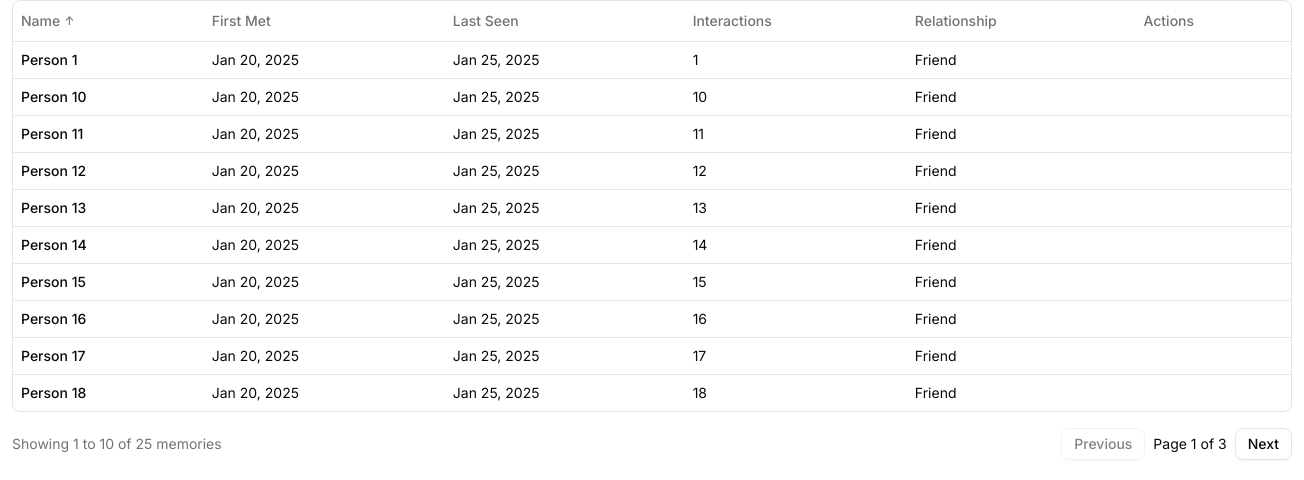
Memory Table › pagination › should disable next button on last page
Navigate to last page
Click the button "Next" at x=1263, y=444, box [1235, 428, 1292, 460]
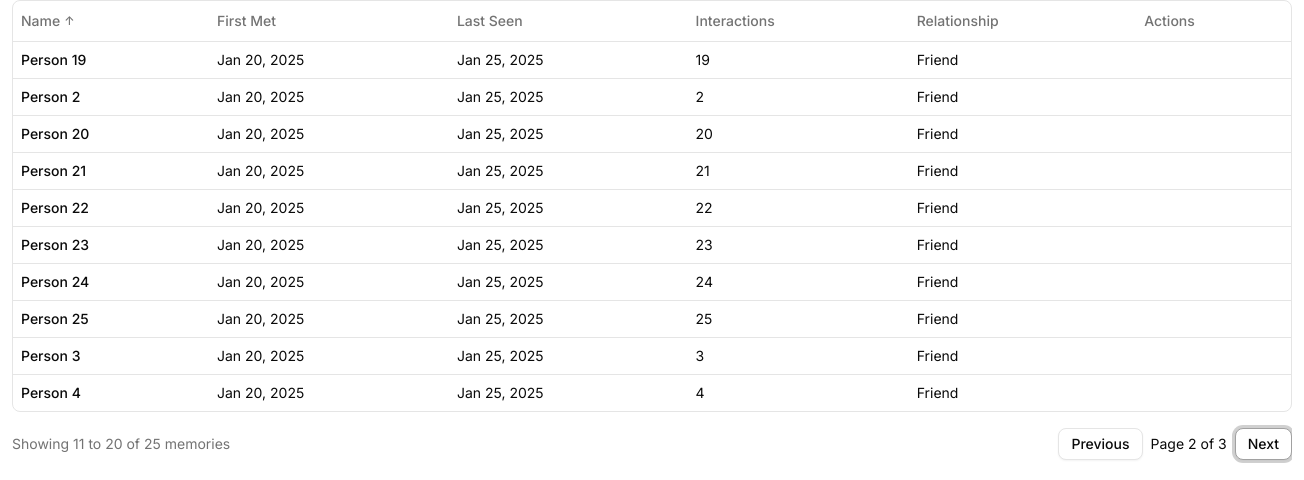
Click the button "Next" at x=1263, y=444, box [1235, 428, 1292, 460]
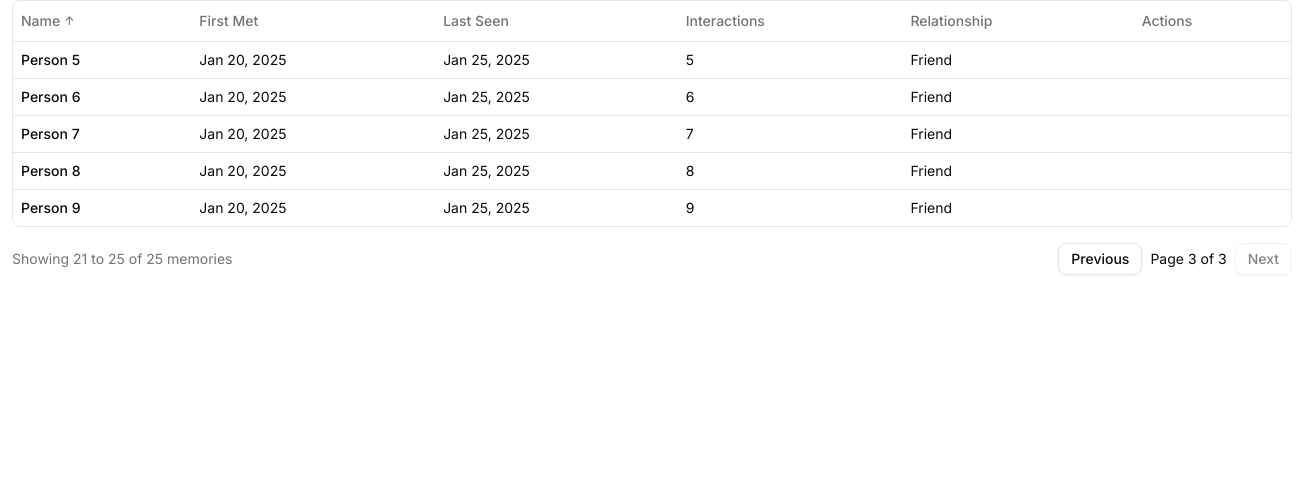
Result: the text "Page 3 of 3" is shown at [1150, 248, 1227, 268]
Result: the button "Next" is disabled at [1235, 242, 1292, 274]
